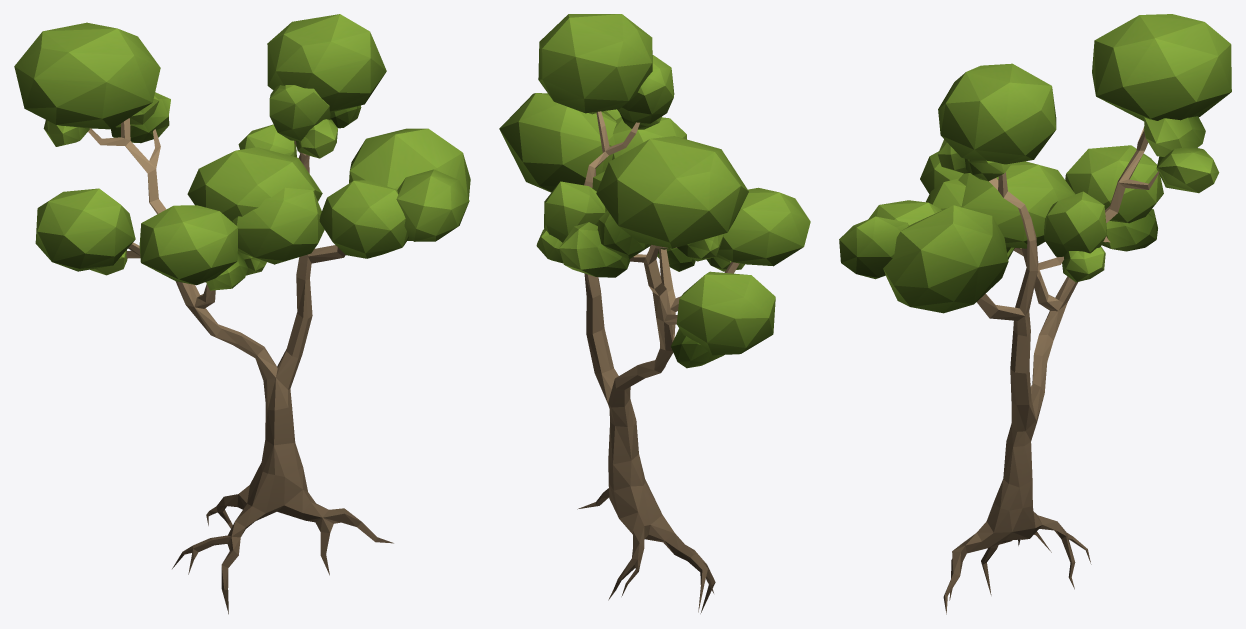
Rendered from ZLP_Plant_D_3.FBX.
The picture shows the model from 3 angles, left to right: view 1: azimuth 30°, elevation 25°; view 2: azimuth 150°, elevation 25°; view 3: azimuth 270°, elevation 25°; orthographic projection.
Parts seen in each view (by area): view 1: ZLP_Plant_D_3; view 2: ZLP_Plant_D_3; view 3: ZLP_Plant_D_3.
Boxes of the visible parts, <box> form: ZLP_Plant_D_3: <box>14,14,470,614</box>; ZLP_Plant_D_3: <box>499,14,810,613</box>; ZLP_Plant_D_3: <box>839,14,1231,614</box>.
Bounding box in the file's own units: 641 × 1016 × 630.
